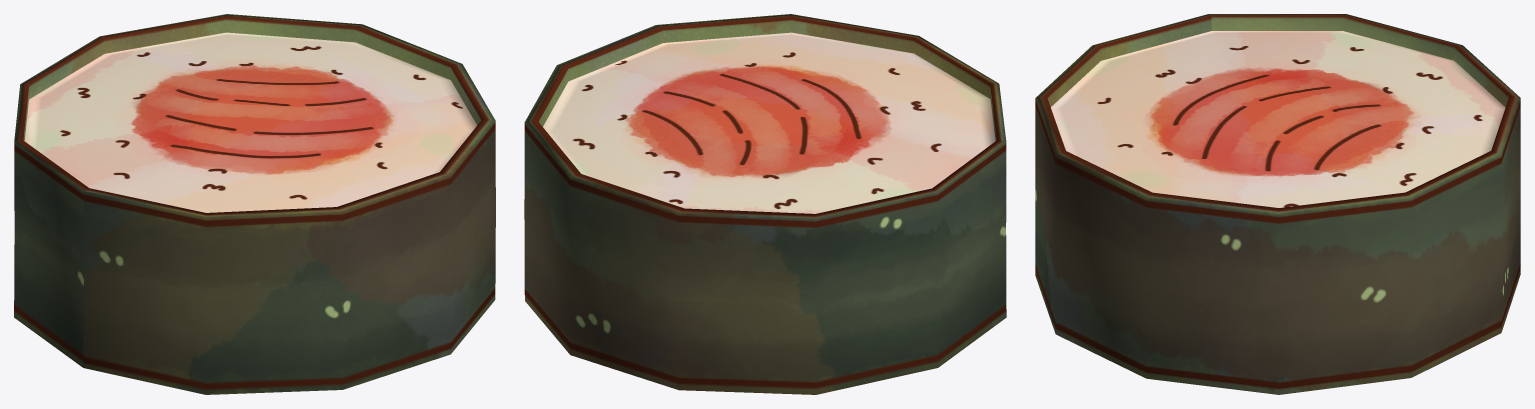
The model's file is sushi roll tuna.fbx.
The picture shows the model from 3 angles, left to right: view 1: azimuth 30°, elevation 25°; view 2: azimuth 150°, elevation 25°; view 3: azimuth 270°, elevation 25°; orthographic projection.
Parts seen in each view (by area): view 1: sushi_roll_tuna; view 2: sushi_roll_tuna; view 3: sushi_roll_tuna.
Boxes of the visible parts, box(x1,y1,x2,y2) form: sushi_roll_tuna: box(14, 14, 495, 394); sushi_roll_tuna: box(524, 14, 1006, 394); sushi_roll_tuna: box(1035, 14, 1520, 394).
Bounding box in the file's own units: 6.02 × 2.52 × 6.07.
